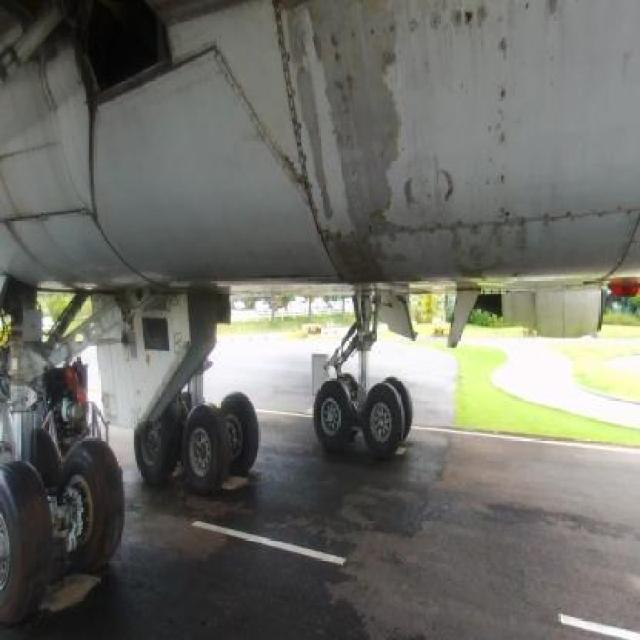Missing-Rivet: (332, 9, 485, 48), (370, 212, 598, 238), (494, 5, 518, 208), (536, 2, 586, 33)
Scartch: (275, 0, 428, 289), (424, 218, 536, 277), (396, 162, 478, 222), (423, 2, 494, 42), (495, 28, 511, 200)
